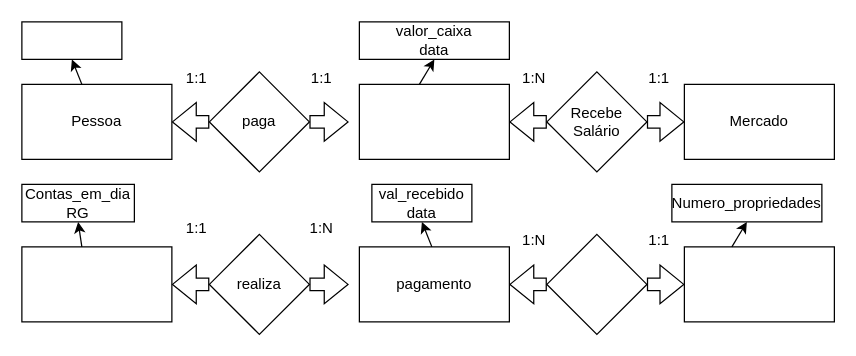
The diagram is 856 pixels wide and 356 high, and some of its shapes have lost their labels. The shapes that lost their labels are listed below. From the top down, each one's centre as x and y in pixels, then its label:
At (71,40): "Nome CPF".
At (433,121): "Atendente".
At (96,284): "Pessoa_fisica".
At (596,283): "recebe".
At (758,284): "Proprietario".
